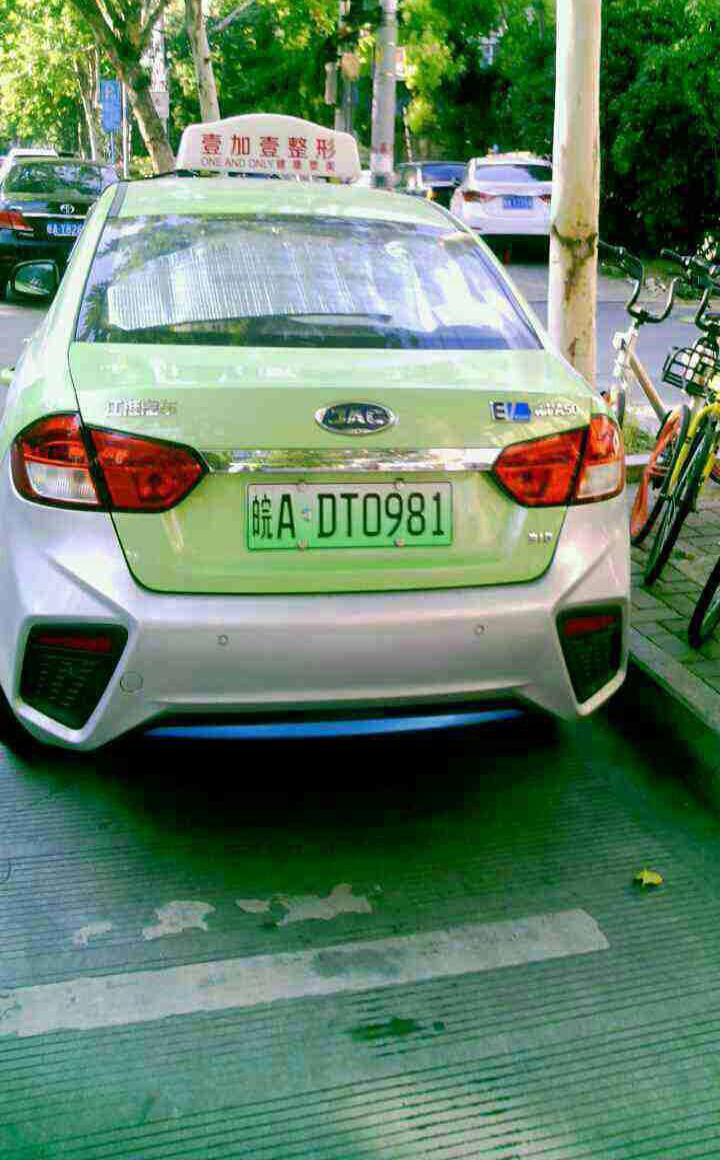car_green: (242, 482, 458, 550)
